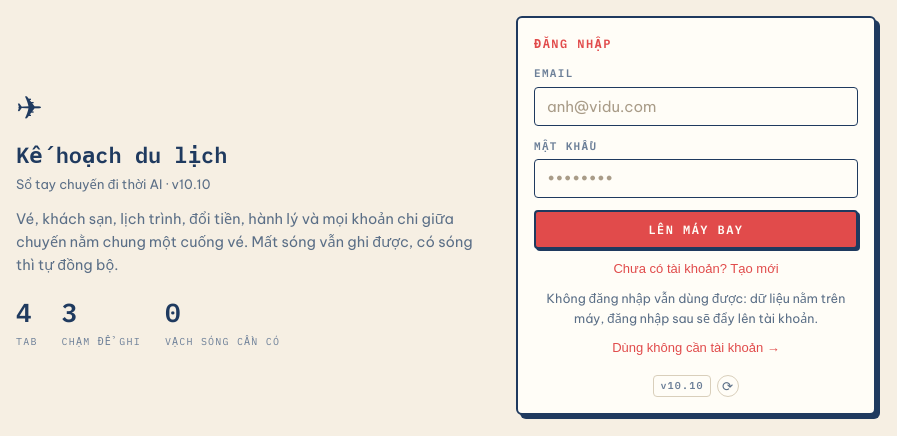
it: màn đăng nhập · hai chế độ trên một form › bấm «Chưa có tài khoản? Tạo mới» thì nút đổi thành «Tạo tài khoản»
Click the button with class "dn__lien-ket" showing "Chưa có tài khoản? Tạo mới": (696, 269) [534,261,858,276]
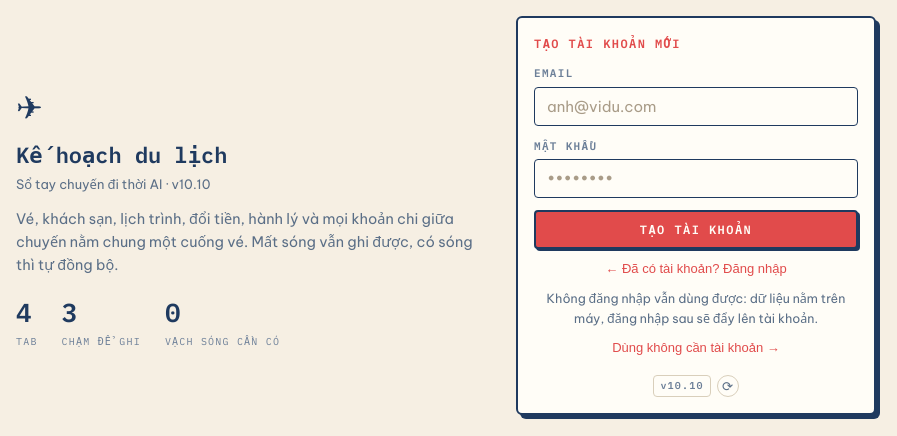
Expected: the button with class "nut--chinh" reads "Tạo tài khoản", [534,210,858,249]
Expected: the heading with class "dn__che" reads "Tạo tài khoản mới", [534,36,681,51]
